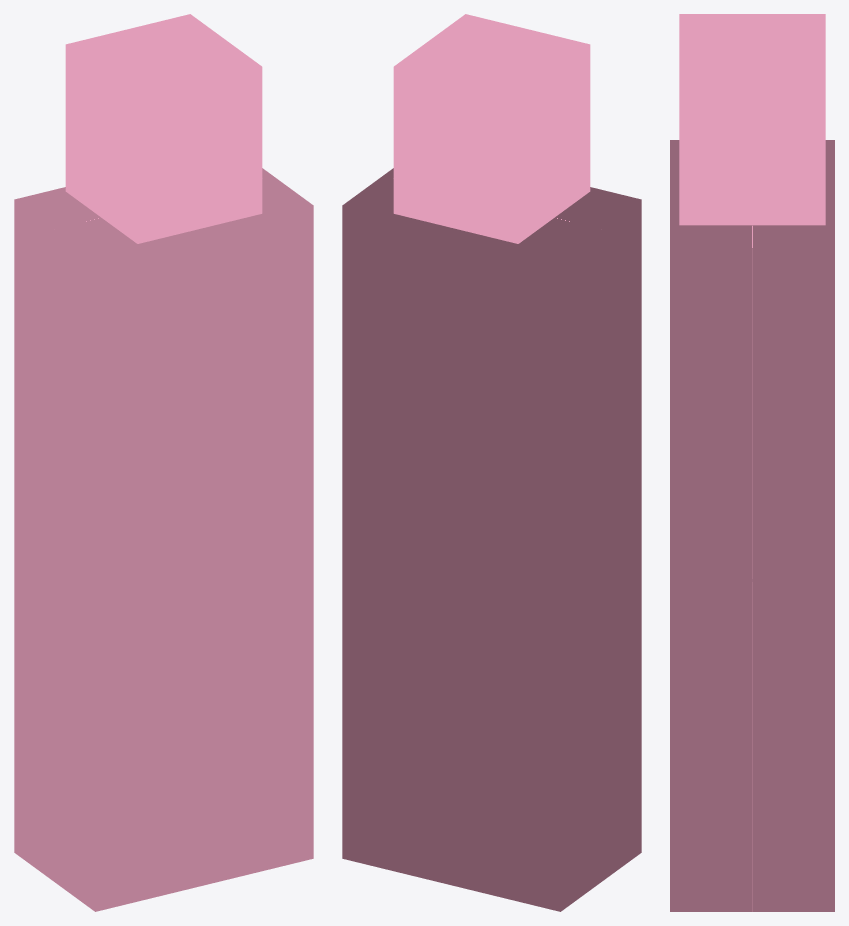
3 renders of one model, left to right at view 1: azimuth 30°, elevation 25°; view 2: azimuth 150°, elevation 25°; view 3: azimuth 270°, elevation 25°, orthographic.
Parts seen in each view (by area): view 1: Root; view 2: Root; view 3: Root.
Boxes of the visible parts, x1,y1,x2,y2 form: Root: [14, 14, 313, 911]; Root: [342, 14, 641, 911]; Root: [670, 14, 834, 911].
Bounding box in the file's own units: 0.56 × 1.96 × 0.36.
